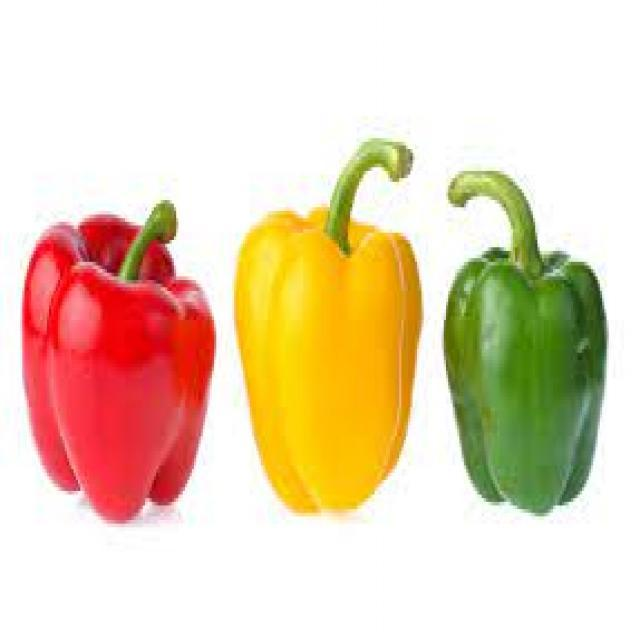Pepper: (234, 145, 424, 517), (21, 203, 217, 527), (443, 174, 609, 519)
